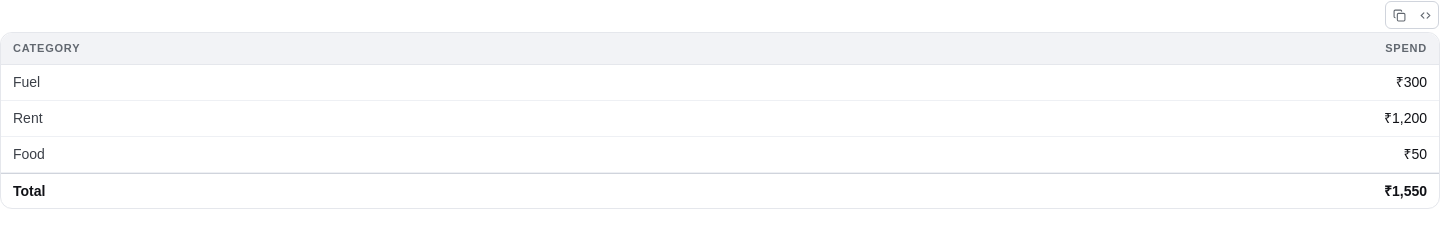
Test: reading a table another way round › copies the table back as the Markdown it arrived as
The image size is (1440, 226).
Click the button named "Copy as Markdown": (1399, 15) x1=1388 y1=4 x2=1410 y2=26
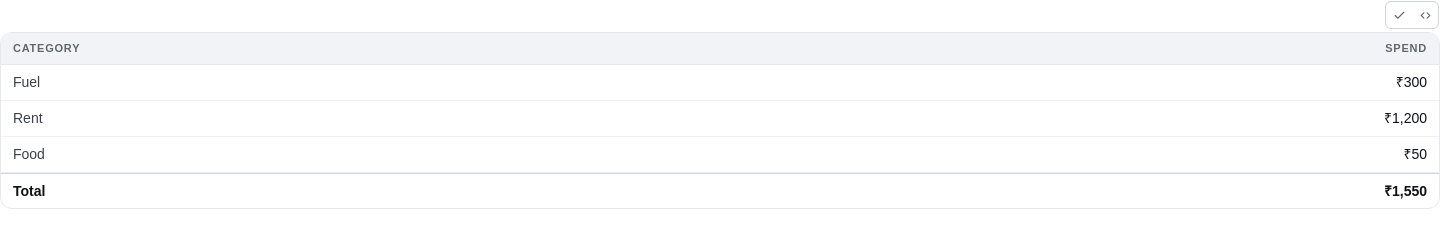
Now the button named "Copied 4 rows" is shown, box x1=1388 y1=4 x2=1410 y2=26
